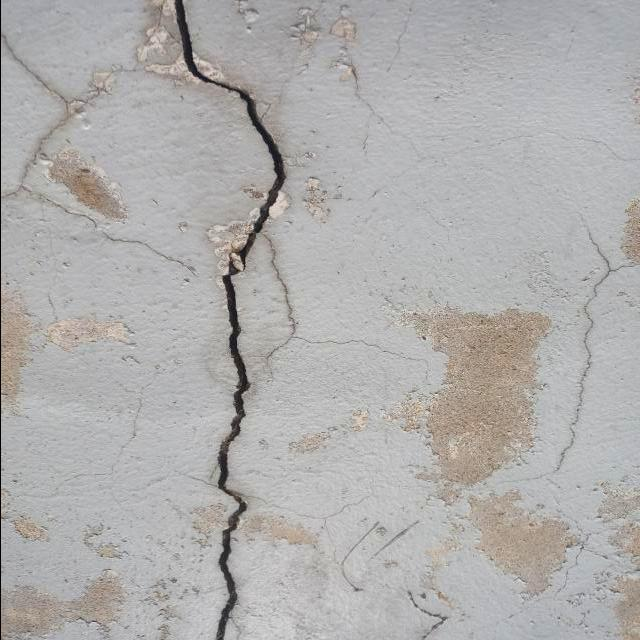SurfaceCrack: (163, 0, 321, 640), (535, 198, 640, 487)
